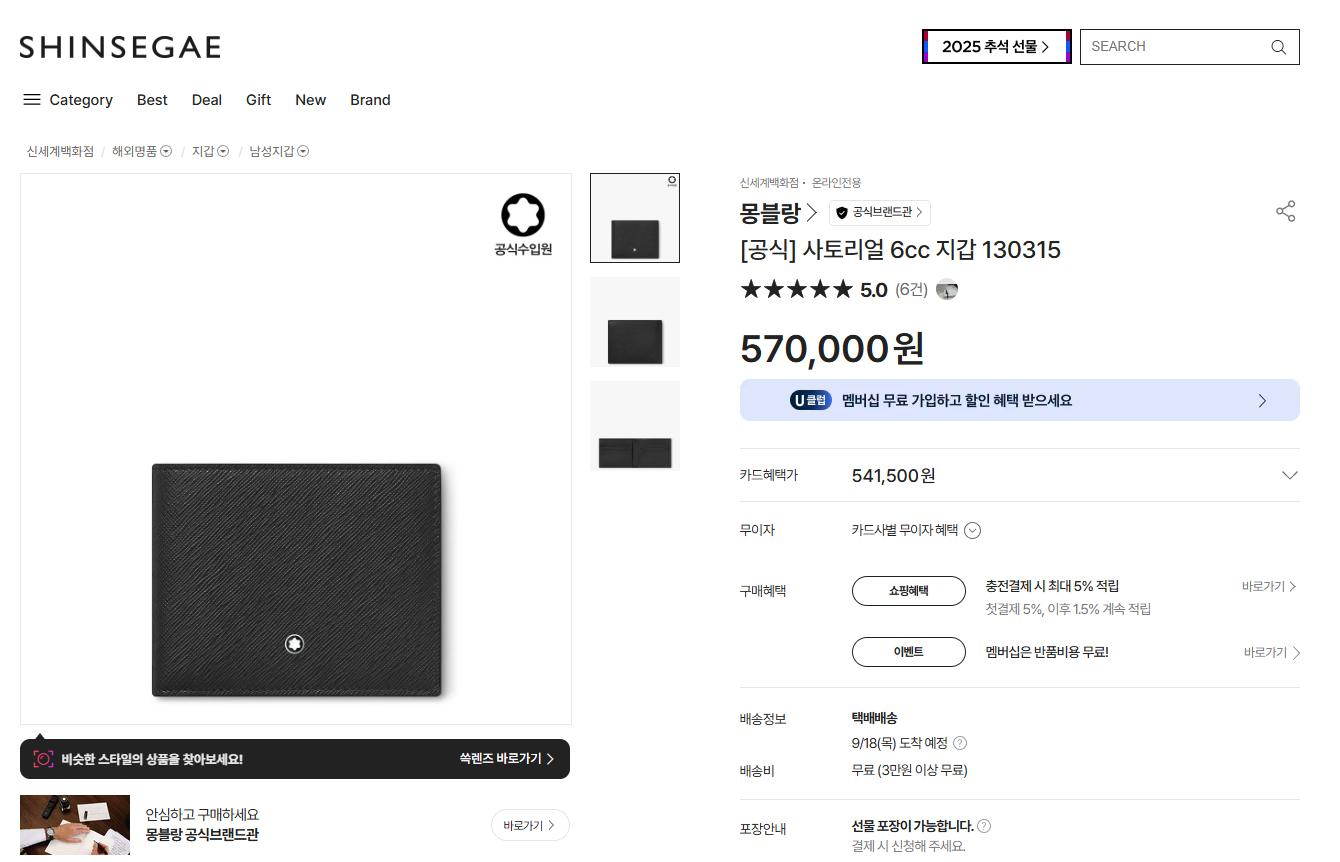button: (922, 28, 1072, 65), (847, 636, 971, 671), (851, 576, 971, 609), (829, 194, 934, 226), (491, 808, 576, 843), (1237, 634, 1306, 667), (451, 748, 556, 769), (1233, 572, 1302, 601), (50, 88, 115, 113), (346, 82, 399, 112), (291, 82, 334, 115), (237, 87, 280, 113), (1271, 196, 1305, 227), (186, 86, 228, 110), (128, 89, 173, 111), (1246, 387, 1277, 417), (17, 88, 43, 112), (1276, 466, 1300, 485)
input_field: (1079, 27, 1301, 67)
popup: (9, 793, 279, 860), (20, 745, 575, 777)
